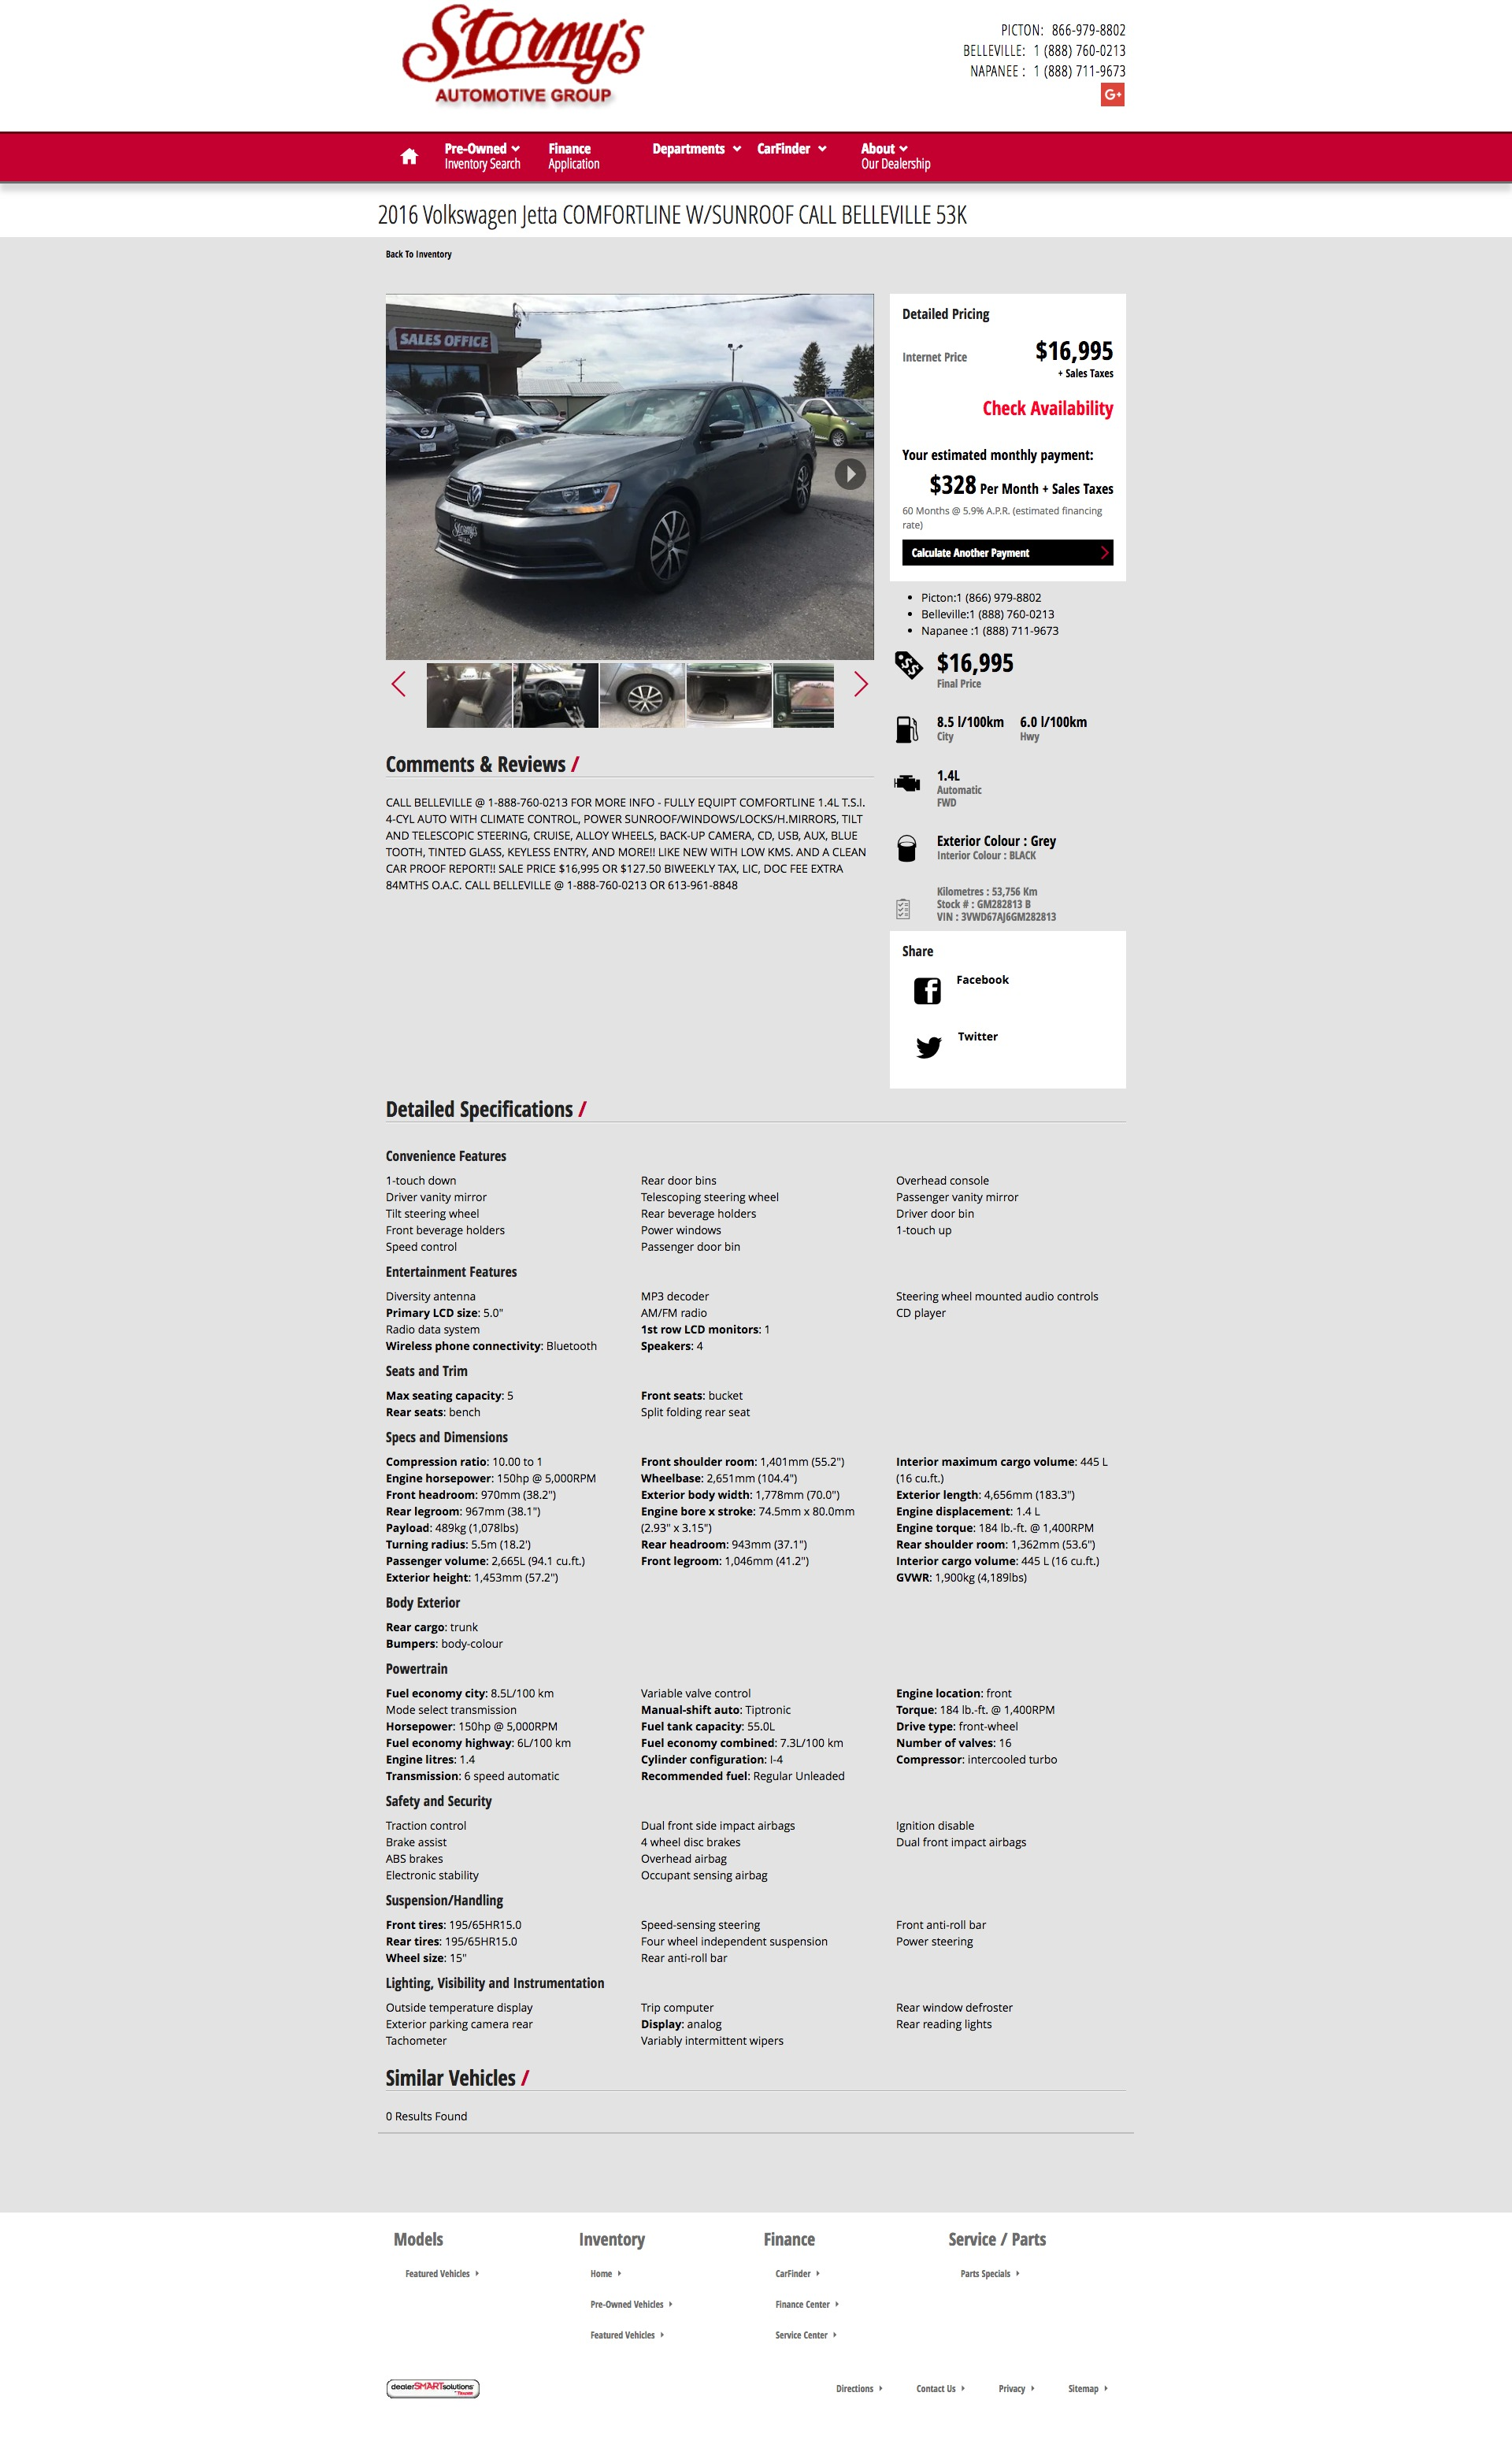car: (855, 672, 869, 699)
